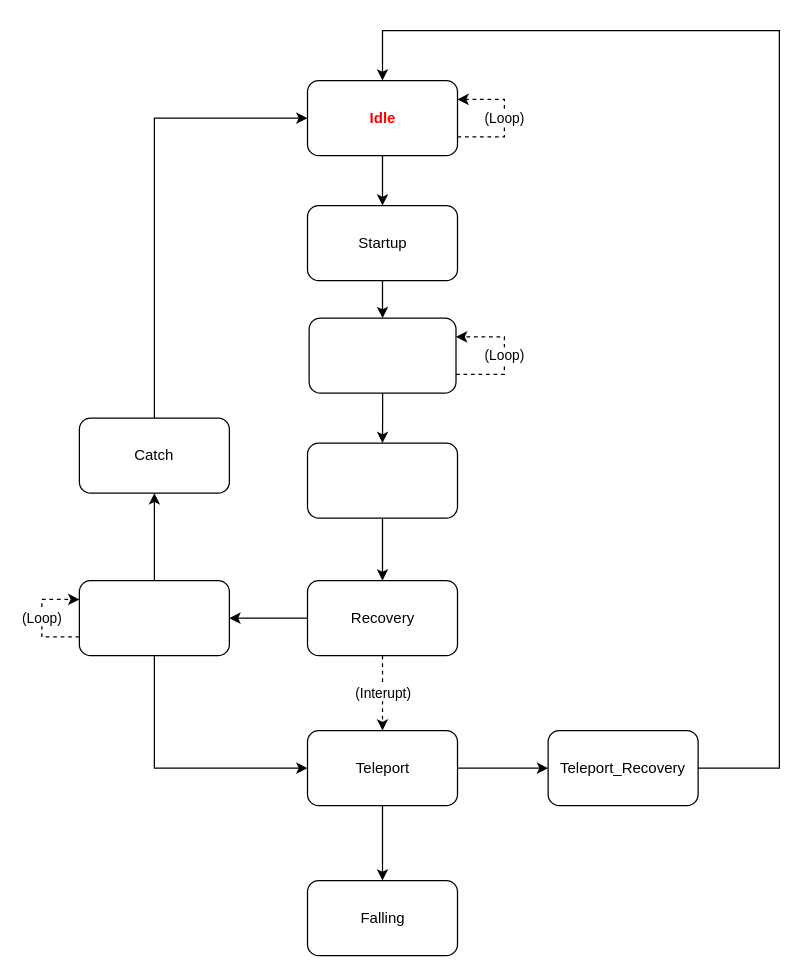
Image size: 811x978. Some labels were removed from this diagram. The centre of each missing label's shape, as x and y in pixels:
"Aiming" goes at pixel 382 355.
"Empty-handed" goes at pixel 153 617.
"Throwing" goes at pixel 382 480.
